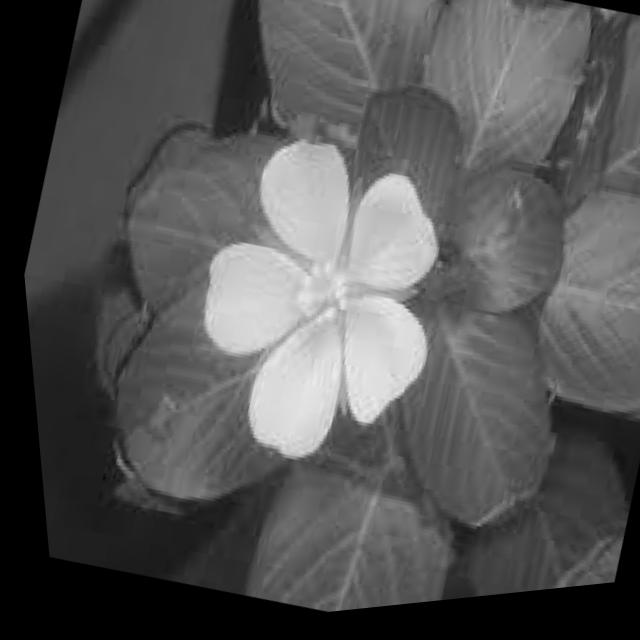Flower: (143, 100, 502, 495)
